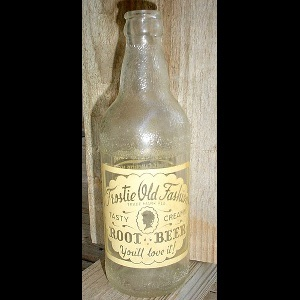emptybottle: (98, 11, 192, 296)
